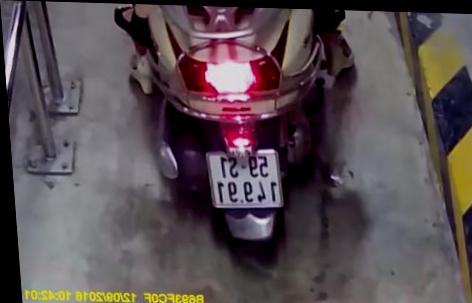License_Plate: (199, 143, 290, 223)
